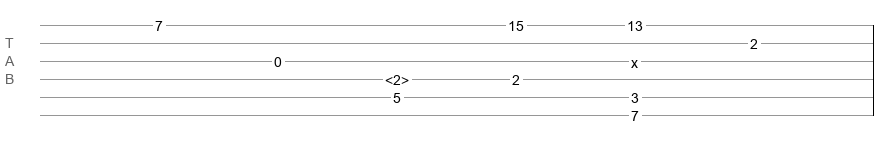0: (274, 54, 282, 64)
13: (627, 18, 643, 28)
15: (508, 18, 524, 28)
2: (512, 72, 520, 82), (750, 36, 758, 46)
3: (631, 90, 639, 100)
5: (393, 90, 401, 100)
7: (155, 18, 163, 28), (631, 108, 639, 118)
harmonic: (385, 72, 409, 82)
x: (631, 55, 638, 63)
